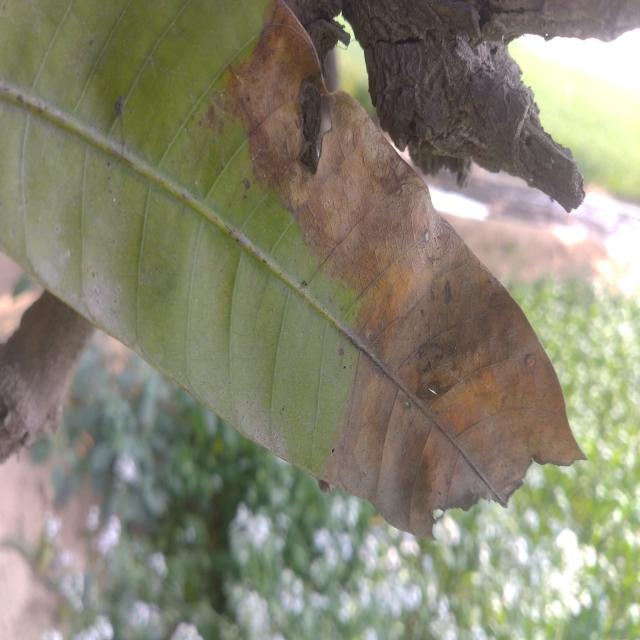Bacterial Cancer: (343, 282, 532, 485), (249, 51, 386, 261)
